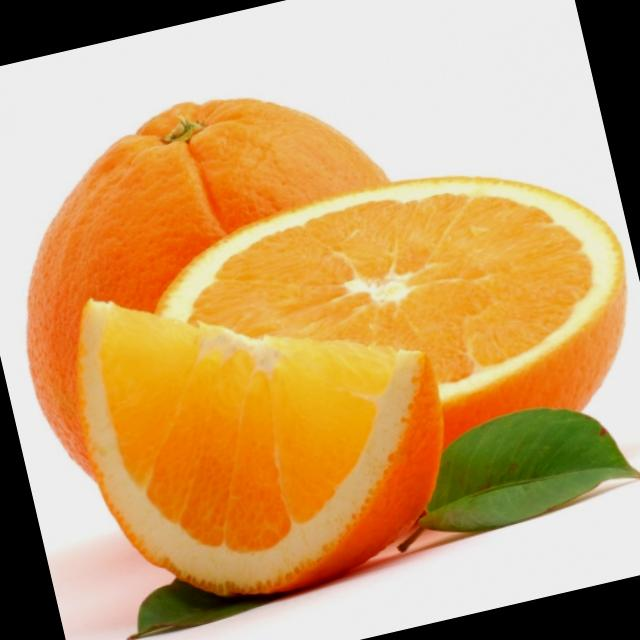orange: (0, 48, 472, 557)
